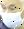with_mask: (1, 2, 24, 29)
